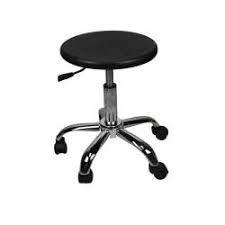stool: (53, 29, 169, 183)
